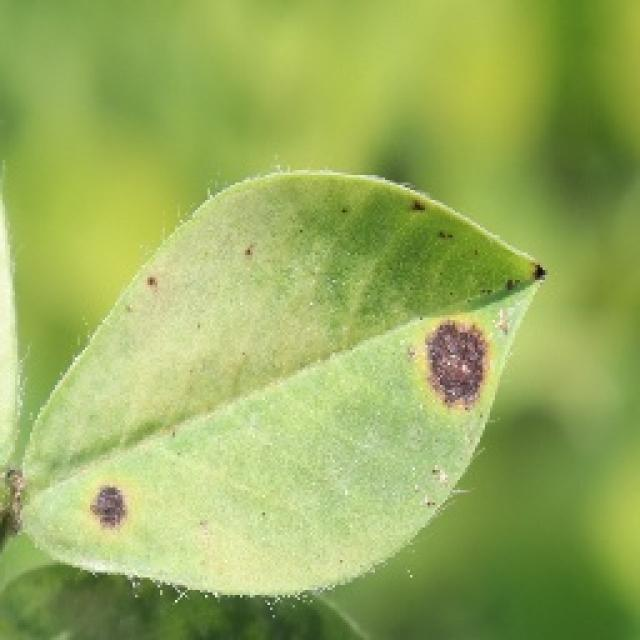Yellowish: (366, 168, 572, 460), (54, 444, 183, 561), (115, 237, 225, 344)
